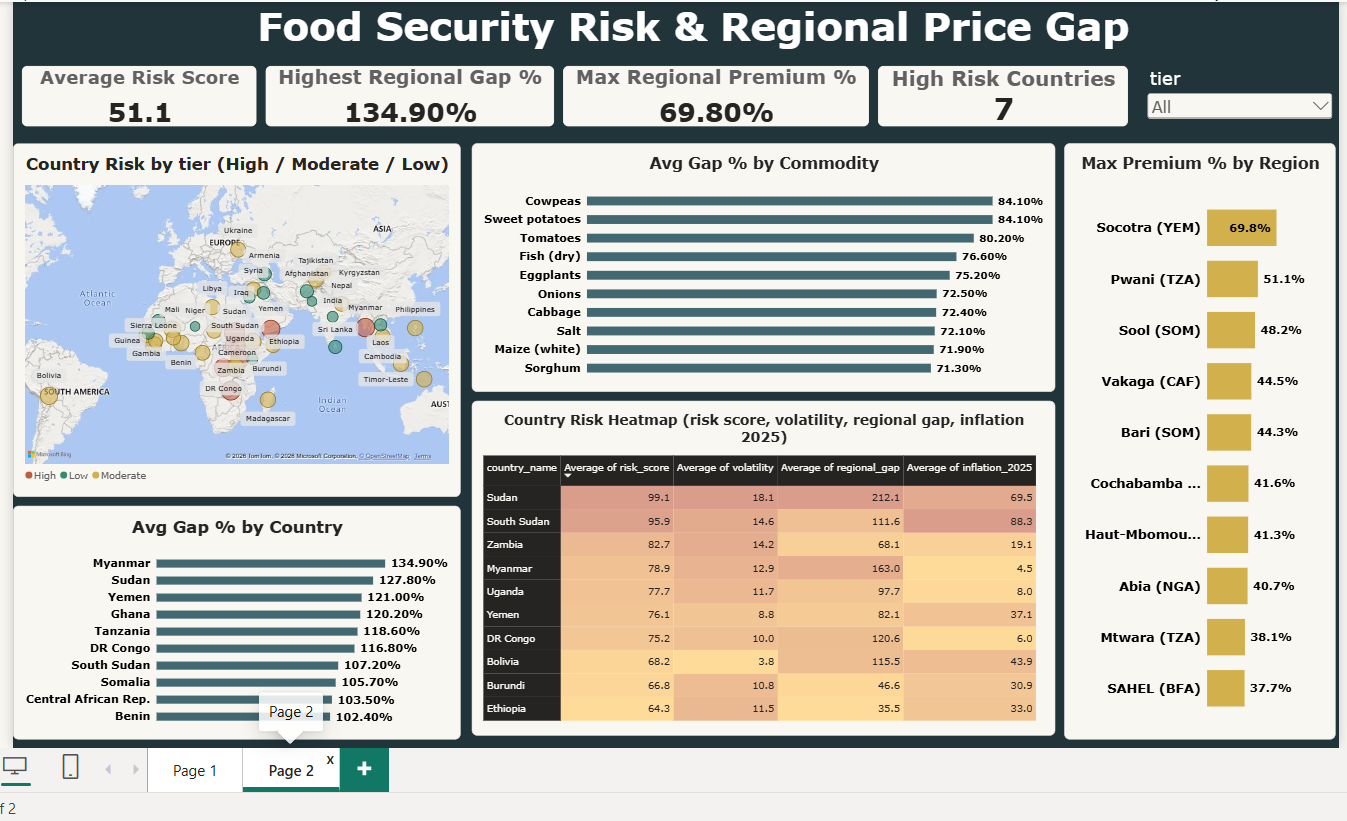

This screenshot's page, from the dashboard's own definition file:
{"tool":"powerbi","page":{"name":"Page 2","canvas":[1920,1080],"ordinal":1},"visuals":[{"type":"clusteredBarChart","title":"Avg Gap % by Country","fields":{"Category":["fact_regional_gap_country.country_name"],"Y":["Avg(fact_regional_gap_country.avg_gap_pct)"]},"box":[0,729.3,647.9,338.4],"z":1},{"type":"clusteredBarChart","title":"Max Premium % by Region","fields":{"Category":["fact_region_premium.Region Country"],"Y":["Max(fact_region_premium.premium_pct)"]},"box":[1521.9,204.5,392.7,863.2],"z":2},{"type":"cardVisual","fields":{"Data":["Avg(fact_country_risk.risk_score)"]},"box":[12.2,92.4,340.1,89],"z":3},{"type":"cardVisual","fields":{"Data":["Max(fact_regional_gap_country.avg_gap_pct)"]},"box":[366.3,92.4,418.6,89],"z":4},{"type":"map","title":"Country Risk by tier (High / Moderate / Low)","fields":{"Category":["fact_country_risk.country_name"],"Series":["fact_country_risk.tier"],"Size":["Avg(fact_country_risk.risk_score)"]},"box":[0,204.5,647.9,512.1],"z":5},{"type":"clusteredBarChart","title":"Avg Gap % by Commodity","fields":{"Category":["fact_regional_gap_commodity.commodity"],"Y":["Avg(fact_regional_gap_commodity.avg_gap_pct)"]},"box":[664.1,204.5,845.1,360.1],"z":7},{"type":"cardVisual","fields":{"Data":["Max(fact_region_premium.premium_pct)"]},"box":[772.7,774.5,465.1,88.7],"z":8},{"type":"pivotTable","title":"Country Risk Heatmap (risk score, volatility, regional gap, inflation 2025)","fields":{"Rows":["fact_country_risk.country_name"],"Values":["Avg(fact_country_risk.risk_score)","Avg(fact_country_risk.volatility)","Avg(fact_country_risk.regional_gap)","Avg(fact_country_risk.inflation_2025)"]},"box":[664.1,577.3,845.1,485],"z":9},{"type":"cardVisual","fields":{"Data":["fact_volatility_country.high risk countrires"]},"box":[1252.3,92.4,362.8,89],"z":10},{"type":"textbox","box":[99.5,0,1516.5,92.3],"z":11},{"type":"cardVisual","fields":{"Data":["Max(fact_region_premium.premium_pct)"]},"box":[795.4,92.4,443,89],"z":12},{"type":"slicer","fields":{"Values":["fact_country_risk.tier"]},"box":[1637.8,92.4,277.3,89],"z":13}]}

Visuals, with their boxes in screenshot pixels (x1, y1, x2, y2):
"Avg Gap % by Country" clusteredBarChart: bbox=(7, 505, 455, 739)
"Max Premium % by Region" clusteredBarChart: bbox=(1060, 141, 1332, 739)
cardVisual - Avg(fact_country_risk.risk_score): bbox=(15, 64, 251, 126)
cardVisual - Max(fact_regional_gap_country.avg_gap_pct): bbox=(260, 64, 550, 126)
"Country Risk by tier (High / Moderate / Low)" map: bbox=(7, 141, 455, 496)
"Avg Gap % by Commodity" clusteredBarChart: bbox=(466, 141, 1051, 391)
cardVisual - Max(fact_region_premium.premium_pct): bbox=(542, 536, 863, 597)
"Country Risk Heatmap (risk score, volatility, regional gap, inflation 2025)" pivotTable: bbox=(466, 399, 1051, 735)
cardVisual - fact_volatility_country.high risk countrires: bbox=(873, 64, 1124, 126)
textbox: bbox=(76, 0, 1125, 64)
cardVisual - Max(fact_region_premium.premium_pct): bbox=(557, 64, 864, 126)
slicer - fact_country_risk.tier: bbox=(1140, 64, 1332, 126)
